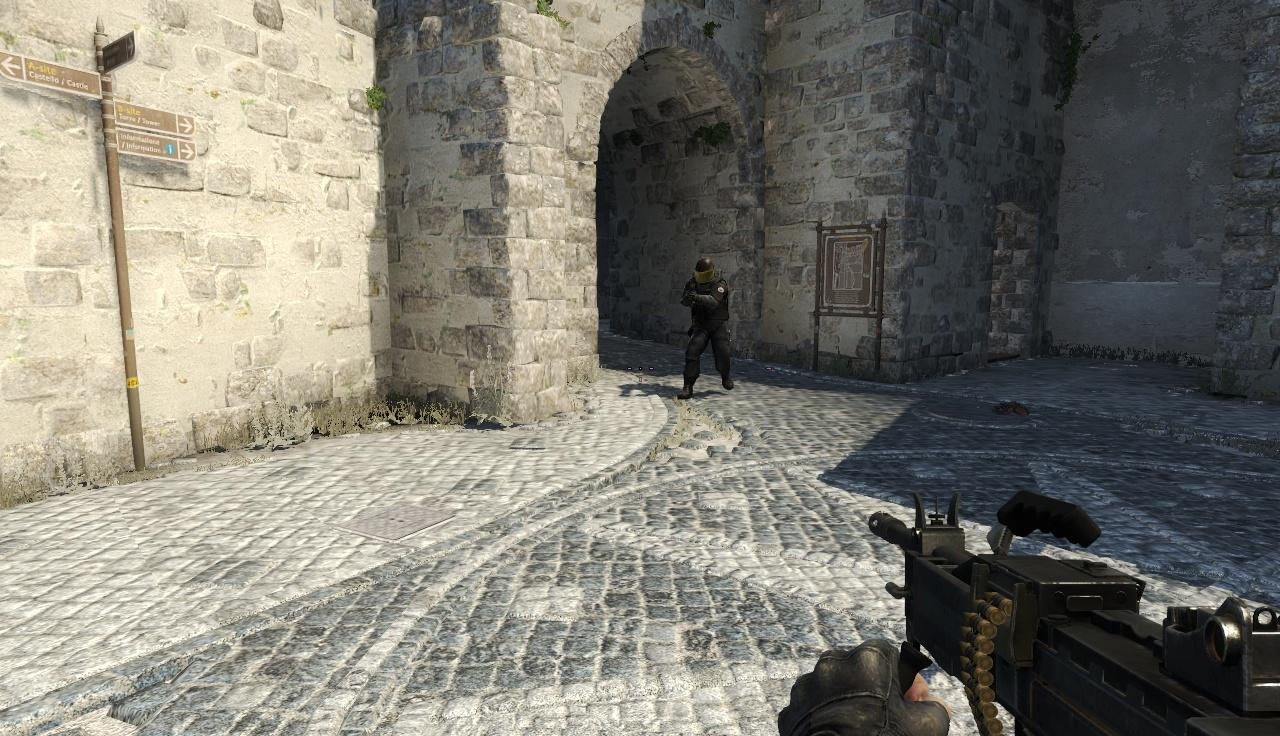ct: (680, 258, 731, 398)
cthead: (693, 258, 715, 283)
rifle: (861, 487, 1276, 736)
